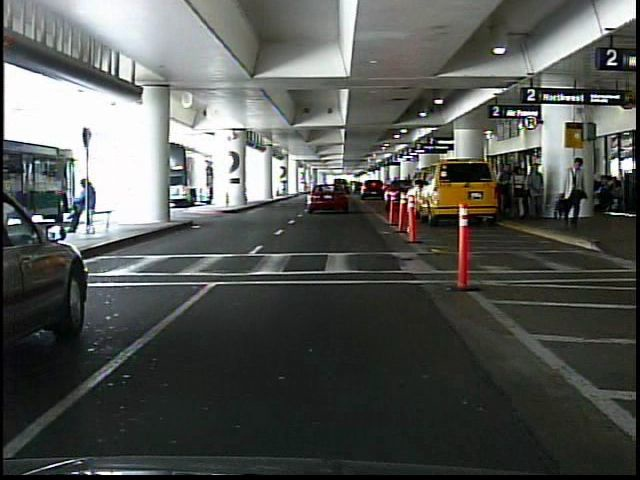person: (556, 157, 587, 232), (527, 163, 547, 219), (509, 164, 526, 222)
